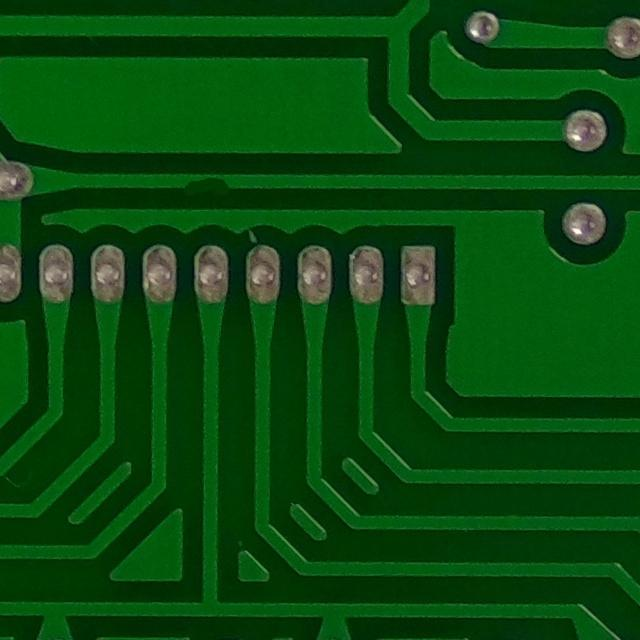mouse_bite: (164, 159, 240, 208)
